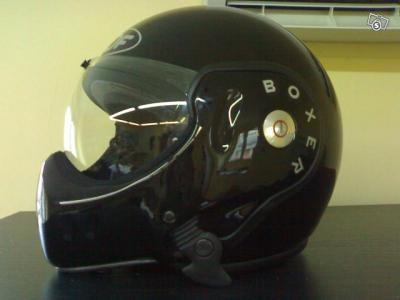helmet: (61, 22, 321, 252)
